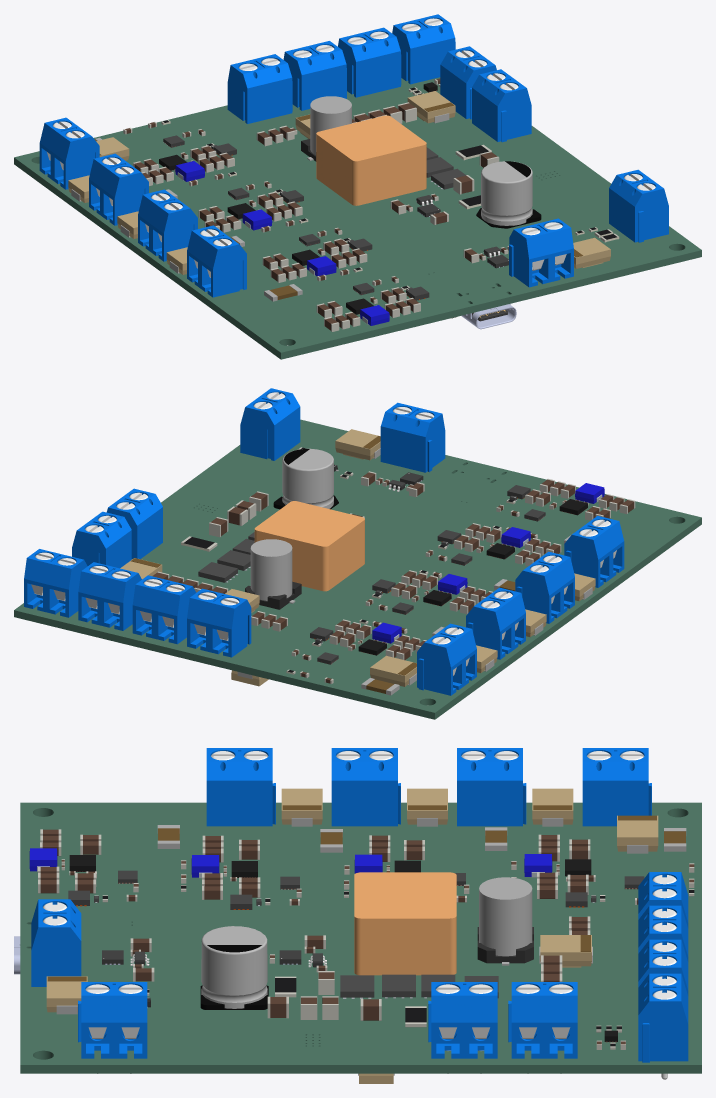
The model's file is board.glb.
3 renders of one model, top to bottom at view 1: azimuth 30°, elevation 25°; view 2: azimuth 150°, elevation 25°; view 3: azimuth 270°, elevation 25°, orthographic. The views are drawn at different scales.
Visible parts, largest first — view 1: =>[0:1:1:38], L1, MECHANICALSWITCH1, CHRGR1, CHG_EN1, DCPWR1, RUTMPWR1, BAT4, AX2PWR1, 標準品ケースΦ10x9.3L SIDE CODE G:1, JETSONPWR1, BAT1 (+7 smaller); view 2: =>[0:1:1:38], L1, CHRGR1, MECHANICALSWITCH1, CHG_EN1, BAT1, RUTMPWR1, AX2PWR1, JETSONPWR1, BAT4, BAT2, BAT3 (+7 smaller); view 3: =>[0:1:1:38], L1, BAT4, BAT3, BAT2, STARLINK1, DCPWR1, CHG_EN1, BAT1, 標準品ケースΦ10x9.3L SIDE CODE G:1, C45, JETSONPWR1 (+16 smaller).
Part boxes in pixels (x1,y1,x2,y2): =>[0:1:1:38]: [14, 77, 701, 359]; L1: [316, 115, 426, 205]; MECHANICALSWITCH1: [227, 54, 292, 123]; CHRGR1: [509, 218, 573, 287]; CHG_EN1: [609, 169, 668, 242]; DCPWR1: [472, 69, 531, 142]; RUTMPWR1: [338, 27, 401, 97]; BAT4: [187, 225, 246, 297]; AX2PWR1: [283, 41, 346, 110]; 標準品ケースΦ10x9.3L SIDE CODE G:1: [481, 161, 532, 225]; JETSONPWR1: [392, 14, 455, 84]; BAT1: [39, 117, 99, 189]; =>[0:1:1:38]: [14, 419, 701, 719]; L1: [254, 501, 364, 591]; CHRGR1: [380, 402, 445, 472]; MECHANICALSWITCH1: [187, 588, 251, 657]; CHG_EN1: [240, 388, 300, 460]; BAT1: [417, 623, 476, 695]; RUTMPWR1: [78, 562, 141, 630]; AX2PWR1: [132, 575, 196, 644]; JETSONPWR1: [24, 549, 87, 617]; BAT4: [564, 516, 624, 587]; BAT2: [466, 587, 525, 659]; BAT3: [515, 551, 574, 623]; =>[0:1:1:38]: [20, 802, 701, 1073]; L1: [354, 872, 456, 975]; BAT4: [206, 748, 275, 826]; BAT3: [331, 748, 400, 826]; BAT2: [457, 748, 526, 826]; STARLINK1: [508, 982, 577, 1073]; DCPWR1: [428, 982, 497, 1073]; CHG_EN1: [78, 982, 147, 1073]; BAT1: [582, 748, 651, 826]; 標準品ケースΦ10x9.3L SIDE CODE G:1: [201, 926, 267, 1008]; C45: [477, 877, 533, 965]; JETSONPWR1: [638, 973, 688, 1079].
Bounding box in the file's own units: 0.0939 × 0.0156 × 0.1041.
